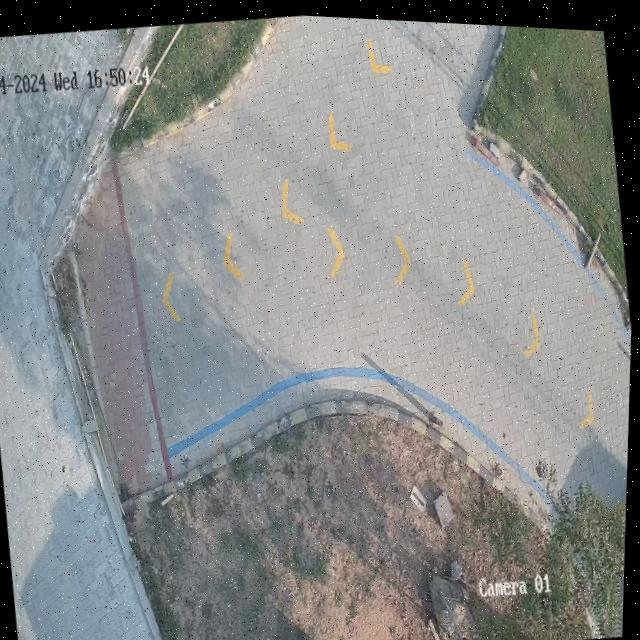No Car: (0, 12, 633, 640)
